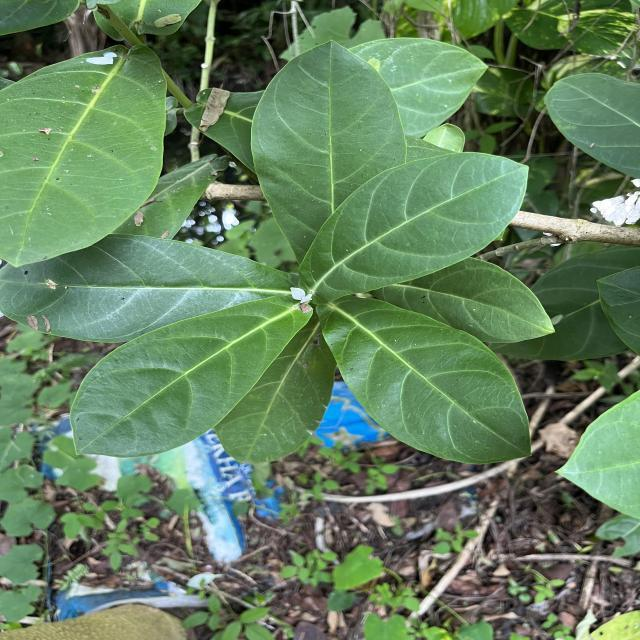Calotropis gigantea: (68, 294, 315, 458), (0, 40, 171, 270), (317, 294, 533, 466), (248, 38, 408, 270), (298, 150, 530, 306), (0, 232, 297, 346)
